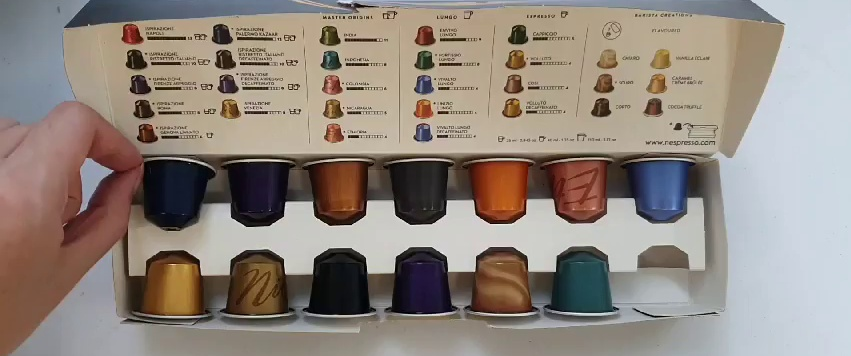capsule_1: (140, 158, 217, 232)
